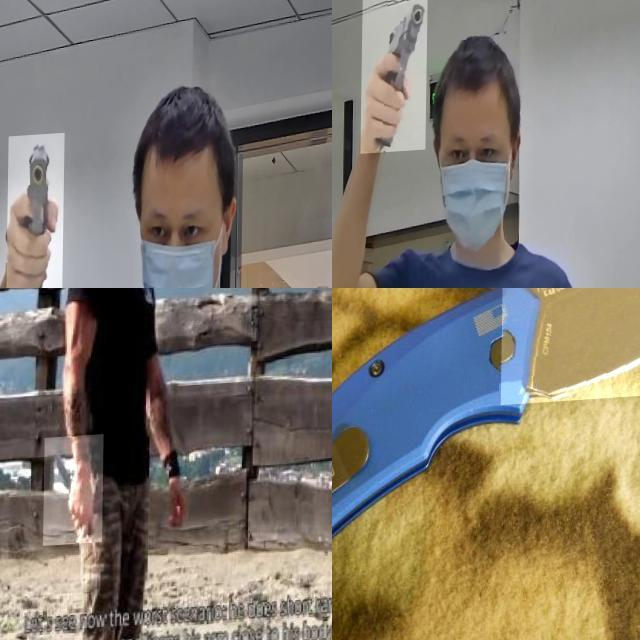-: (501, 288, 640, 410), (44, 437, 105, 548)
gun-knife-thesis - v11 Yolov5 augmented: (361, 0, 428, 154), (7, 137, 65, 288)
